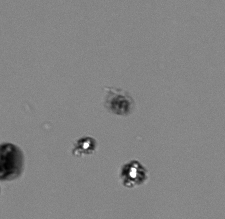Dead Cell: (1, 144, 22, 182), (112, 93, 129, 114)
Living Cell: (122, 160, 144, 184), (76, 137, 94, 153)
